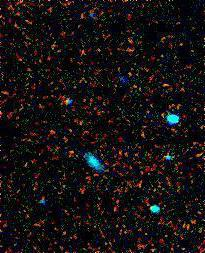star: (76, 0, 106, 29)
